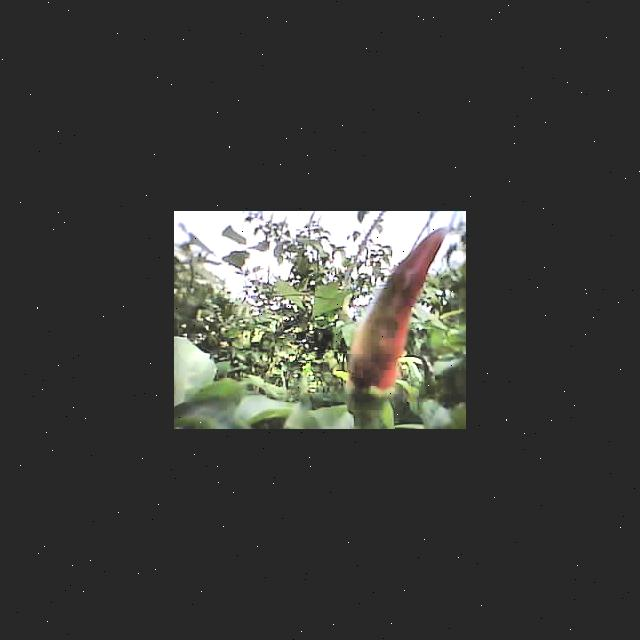Cabai: (350, 228, 443, 393)
